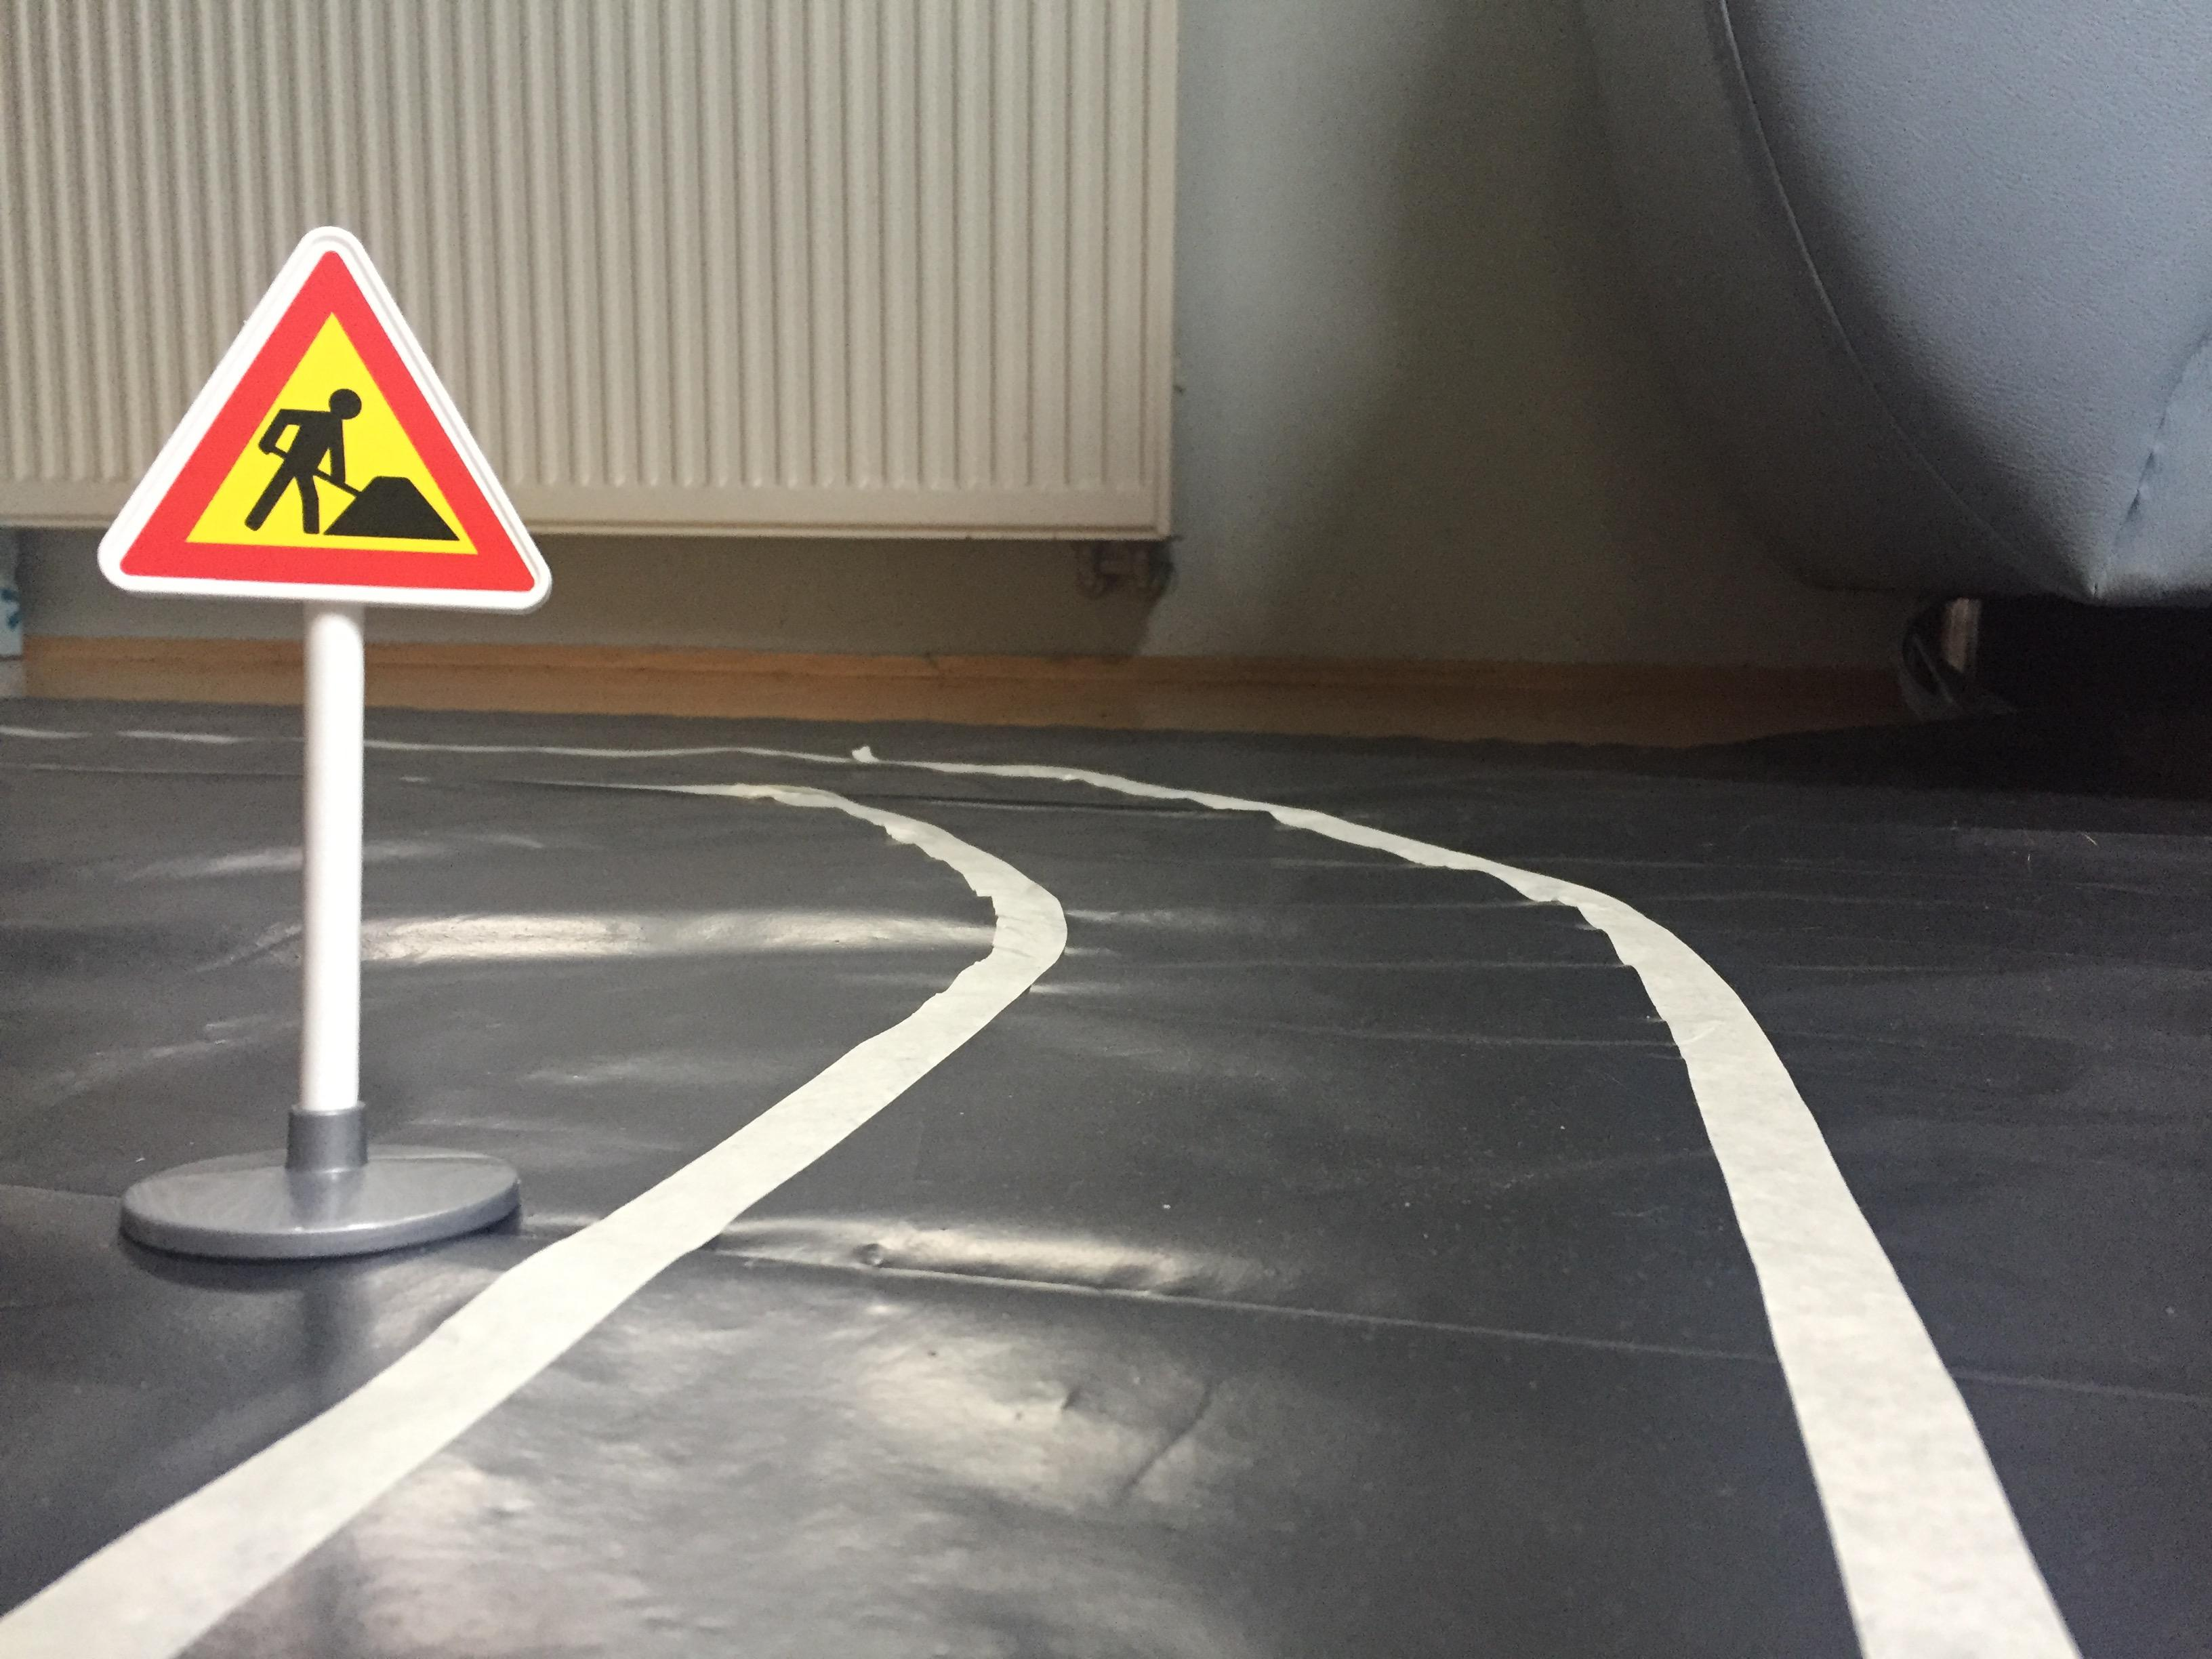work: (87, 214, 563, 629)
